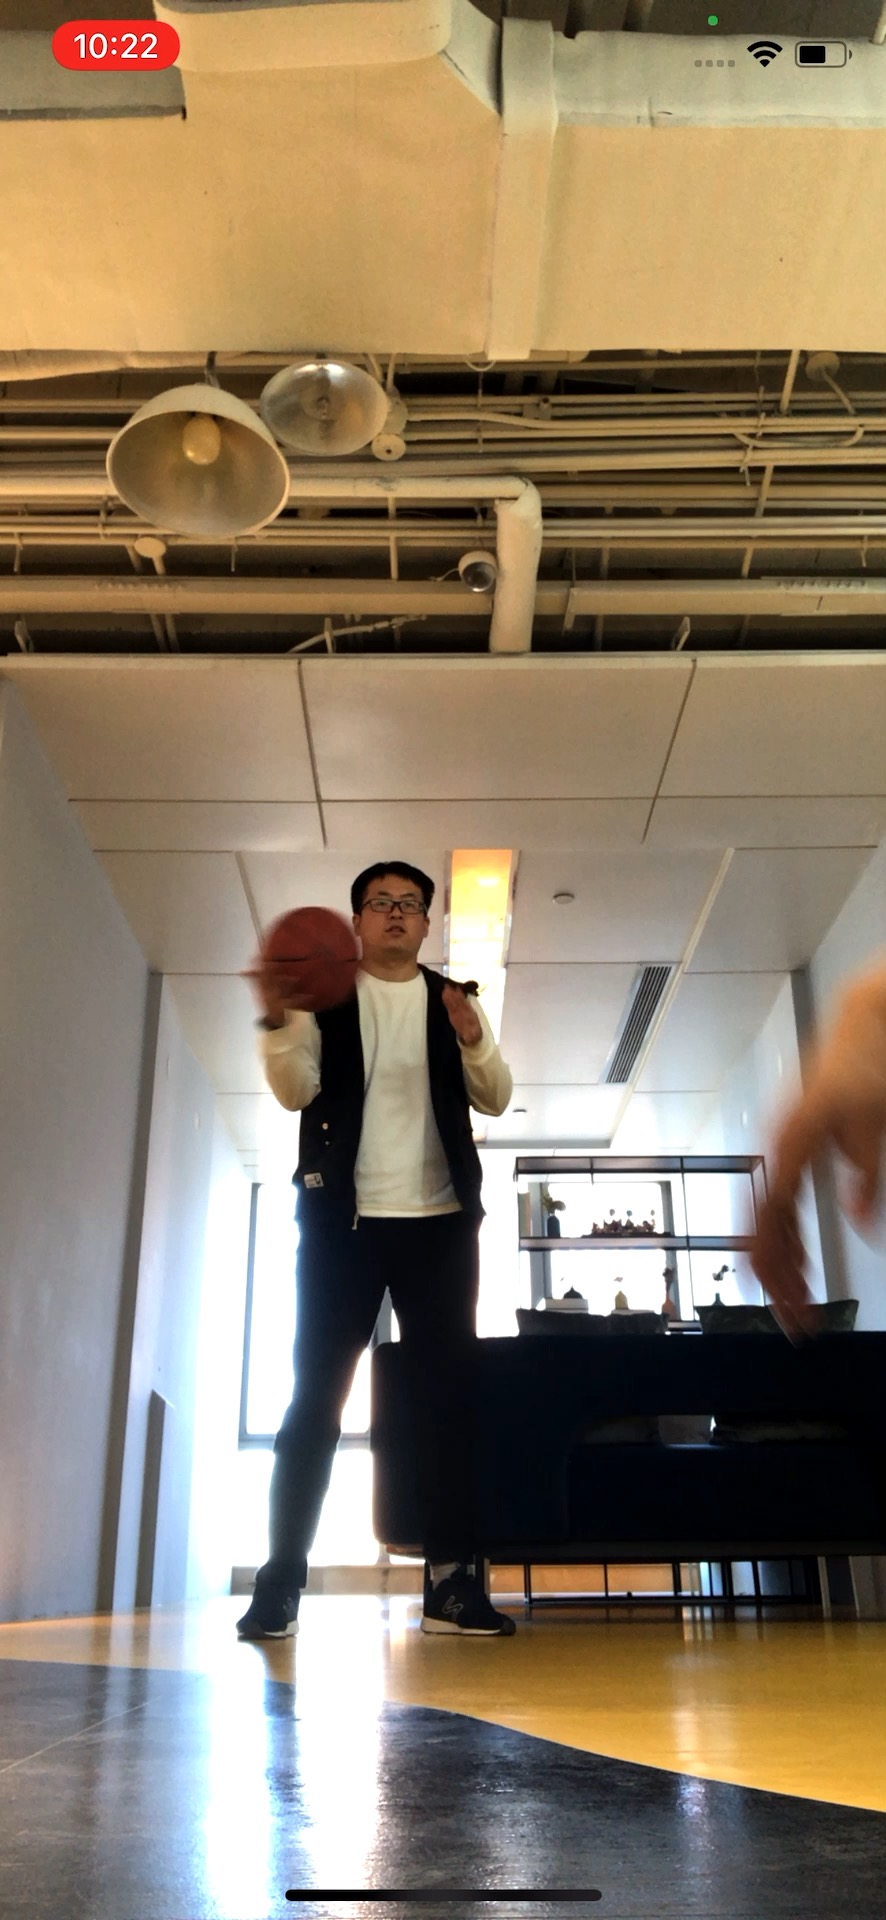ball: (263, 906, 359, 1011)
